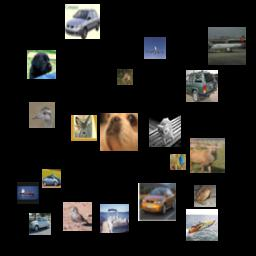airplane: (208, 27, 246, 65), (144, 37, 166, 59)
automobile: (138, 183, 176, 221), (65, 4, 100, 39), (186, 70, 218, 102), (29, 213, 51, 235), (42, 169, 61, 188)
bird: (63, 202, 92, 231), (29, 102, 55, 128), (170, 154, 186, 170)
cat: (149, 115, 181, 147)
deer: (190, 138, 225, 173), (71, 115, 97, 141)
dog: (100, 113, 138, 151), (27, 50, 56, 79)
frog: (194, 185, 216, 207), (117, 69, 133, 85)
ship: (186, 209, 218, 241), (100, 204, 129, 233), (17, 182, 39, 204)
